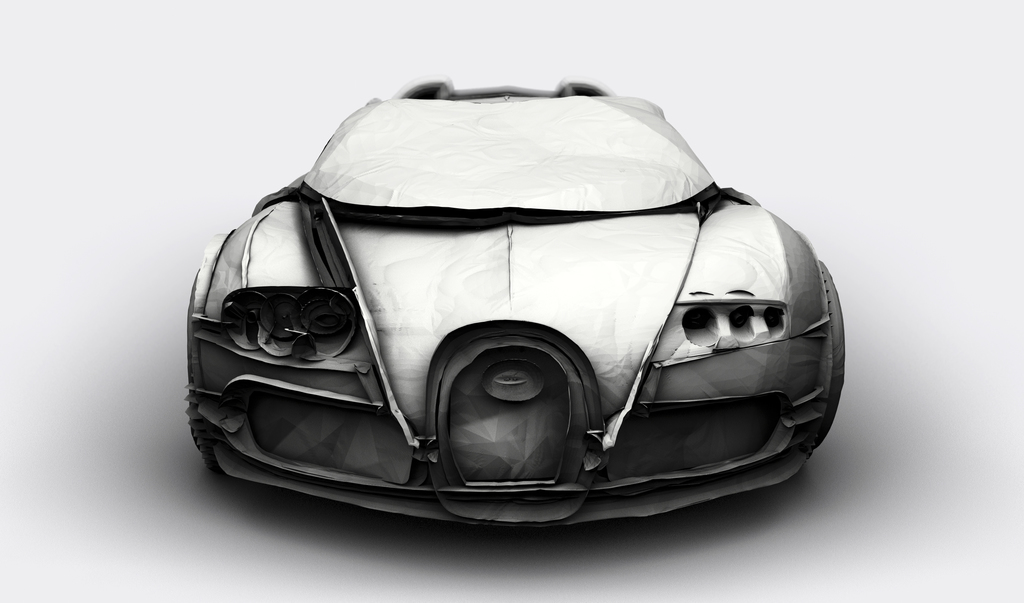Car: (182, 80, 848, 531)
